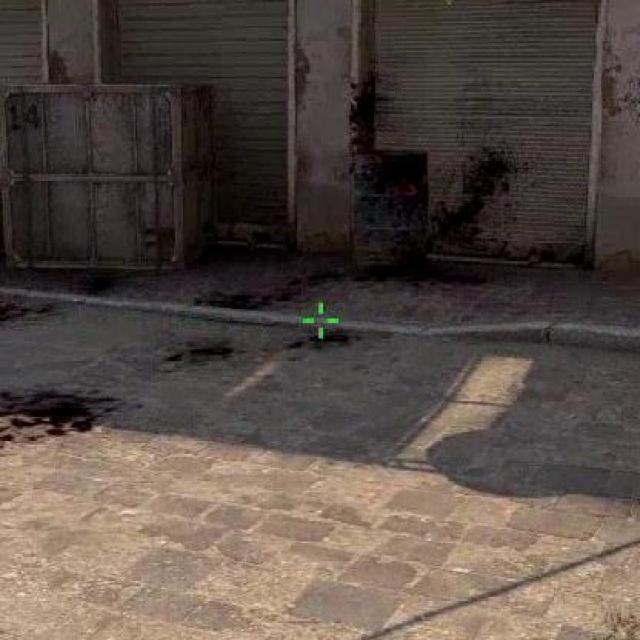CT-Head: (463, 230, 482, 276)
